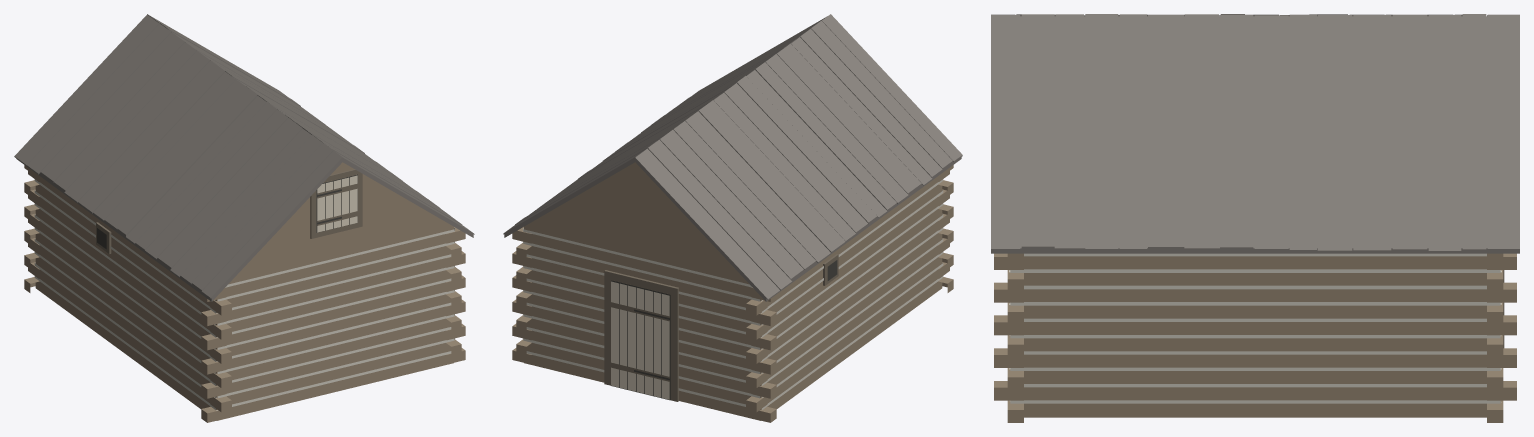
File: recon_1835_blk_indiana_north_cass_a1_10__inferred_1835.glb
The picture shows the model from 3 angles, left to right: view 1: azimuth 30°, elevation 25°; view 2: azimuth 150°, elevation 25°; view 3: azimuth 270°, elevation 25°; orthographic projection. The views are drawn at different scales.
Parts seen in each view (by area): view 1: recon_1835_blk_indiana_north_cass_a1_10__inferred_1835; view 2: recon_1835_blk_indiana_north_cass_a1_10__inferred_1835; view 3: recon_1835_blk_indiana_north_cass_a1_10__inferred_1835.
Part boxes in pixels (x1,y1,x2,y2): recon_1835_blk_indiana_north_cass_a1_10__inferred_1835: (14,14,474,422); recon_1835_blk_indiana_north_cass_a1_10__inferred_1835: (503,14,962,422); recon_1835_blk_indiana_north_cass_a1_10__inferred_1835: (991,14,1519,422).
Size of the model in its own units: 6.05 by 5.23 by 7.7.
